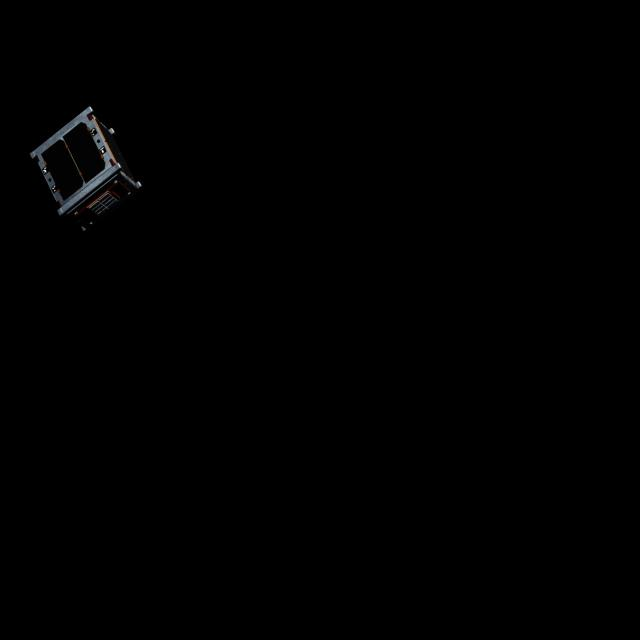medium_debris: (26, 103, 153, 238)
